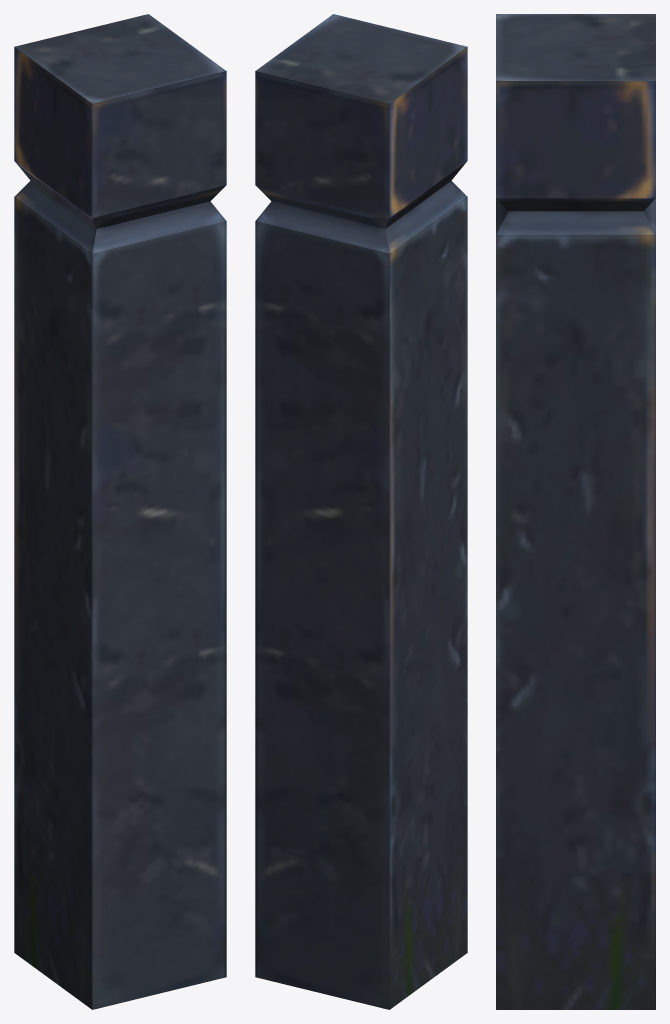
Rendered from HuBian_NightShitou2_fbx.FBX.
3 renders of one model, left to right at view 1: azimuth 30°, elevation 25°; view 2: azimuth 150°, elevation 25°; view 3: azimuth 270°, elevation 25°, orthographic. The views are drawn at different scales.
Visible parts, largest first — view 1: Box047; view 2: Box047; view 3: Box047.
Boxes of the visible parts, x1,y1,x2,y2 form: Box047: (14,14,226,1009); Box047: (255,14,467,1009); Box047: (496,14,655,1009).
Size of the model in its own units: 0.1987 by 1.28 by 0.2.
